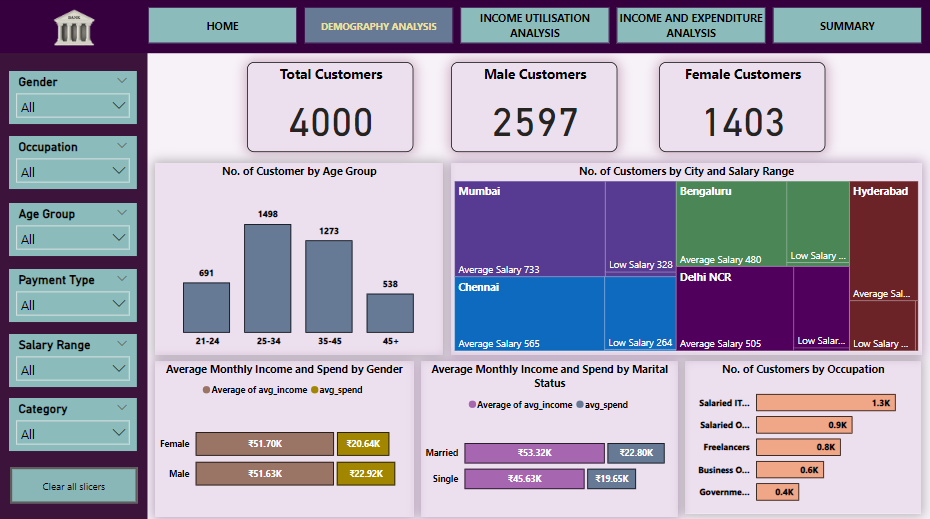

The page's visual inventory and layout, read from the dashboard file:
{"tool":"powerbi","page":{"name":"DEMOGRAPHY ANALYSIS","canvas":[1280,720],"ordinal":1},"visuals":[{"type":"shape","box":[0,0,1280.2,76.3],"z":0},{"type":"pageNavigator","box":[203,13,1065.6,50.4],"z":1000},{"type":"image","box":[56.2,7.2,90.7,69.1],"z":2000},{"type":"shape","box":[0,76.3,203,643.7],"z":3000},{"type":"card","title":"Total Customers","fields":{"Values":["Count(dim_customers.customer_id)"]},"box":[339.8,87.8,229,123.8],"z":4000},{"type":"columnChart","title":"No. of Customer by Age Group","fields":{"Category":["dim_customers.age_group"],"Y":["CountNonNull(dim_customers.customer_id)"]},"box":[213.1,227.5,397.4,263.5],"z":5000},{"type":"barChart","title":"Average Monthly Income and Spend by Gender","fields":{"Category":["dim_customers.gender"],"Y":["Avg(dim_customers.avg_income)","ALL Measures.avg_spend"]},"box":[213.1,499.7,355.7,214.6],"z":6000},{"type":"treemap","title":"No. of Customers by City and Salary Range","fields":{"Group":["dim_customers.city"],"Values":["CountNonNull(dim_customers.customer_id)"],"Details":["dim_customers.Salary Range"]},"box":[620.6,227.5,648,263.5],"z":7000},{"type":"slicer","fields":{"Values":["dim_customers.gender"]},"box":[13,100.8,175.7,73.4],"z":8000},{"type":"actionButton","box":[14.4,645.1,175.7,50.4],"z":9000},{"type":"slicer","fields":{"Values":["dim_customers.occupation"]},"box":[13,190.1,175.7,73.4],"z":10000},{"type":"slicer","fields":{"Values":["dim_customers.age_group"]},"box":[13,282.2,175.7,73.4],"z":11000},{"type":"slicer","fields":{"Values":["fact_spends.payment_type"]},"box":[13,373,175.7,73.4],"z":12000},{"type":"slicer","fields":{"Values":["dim_customers.Salary Range"]},"box":[13,462.2,175.7,73.4],"z":13000},{"type":"slicer","fields":{"Values":["fact_spends.category"]},"box":[13,550.1,175.7,73.4],"z":14000},{"type":"card","title":"Male Customers","fields":{"Values":["ALL Measures.Male_Count"]},"box":[620.6,87.8,229,123.8],"z":15000},{"type":"card","title":"Female Customers","fields":{"Values":["ALL Measures.Female_Count"]},"box":[907.2,87.8,229,123.8],"z":16000},{"type":"barChart","title":"Average Monthly Income and Spend by Marital Status","fields":{"Y":["Avg(dim_customers.avg_income)","ALL Measures.avg_spend"],"Category":["dim_customers.marital status"]},"box":[578.9,499.7,354.2,214.6],"z":17000},{"type":"barChart","title":"No. of Customers by Occupation","fields":{"Category":["dim_customers.occupation"],"Y":["CountNonNull(dim_customers.customer_id)"]},"box":[943.2,499.7,325.4,210.2],"z":18000}]}

Visuals, with their boxes in screenshot pixels (x1, y1, x2, y2), scaled from the page's 1280x720 canvas onto the 930x519 screenshot:
shape: <region>0, 0, 929, 55</region>
pageNavigator: <region>147, 9, 922, 46</region>
image: <region>41, 5, 107, 55</region>
shape: <region>0, 55, 147, 518</region>
"Total Customers" card: <region>247, 63, 413, 153</region>
"No. of Customer by Age Group" columnChart: <region>155, 164, 444, 354</region>
"Average Monthly Income and Spend by Gender" barChart: <region>155, 360, 413, 515</region>
"No. of Customers by City and Salary Range" treemap: <region>451, 164, 922, 354</region>
slicer - dim_customers.gender: <region>9, 73, 137, 126</region>
actionButton: <region>10, 465, 138, 501</region>
slicer - dim_customers.occupation: <region>9, 137, 137, 190</region>
slicer - dim_customers.age_group: <region>9, 203, 137, 256</region>
slicer - fact_spends.payment_type: <region>9, 269, 137, 322</region>
slicer - dim_customers.Salary Range: <region>9, 333, 137, 386</region>
slicer - fact_spends.category: <region>9, 397, 137, 449</region>
"Male Customers" card: <region>451, 63, 617, 153</region>
"Female Customers" card: <region>659, 63, 826, 153</region>
"Average Monthly Income and Spend by Marital Status" barChart: <region>421, 360, 678, 515</region>
"No. of Customers by Occupation" barChart: <region>685, 360, 922, 512</region>
